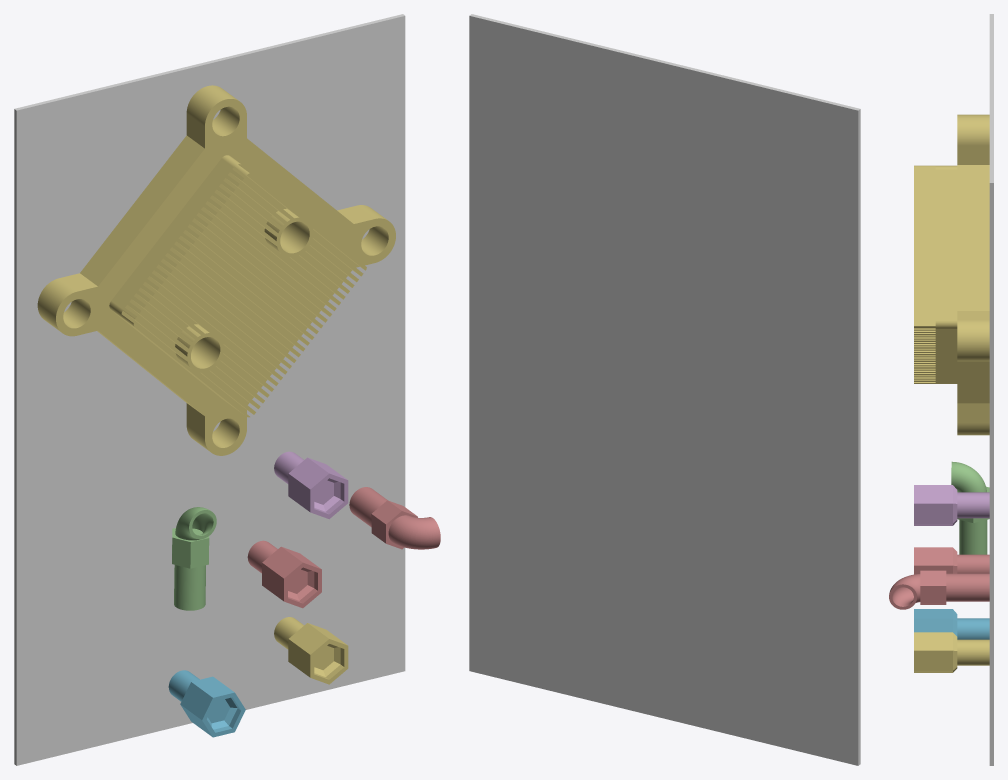
The model's file is pickup_layout.glb.
3 views of the same model, side by side, from view 1: azimuth 30°, elevation 25°; view 2: azimuth 150°, elevation 25°; view 3: azimuth 270°, elevation 25° (orthographic). The views are drawn at different scales.
Parts seen in each view (by area): view 1: world, 1.obj, 4.obj, 0.obj, 2.obj, 6.obj, 3.obj, 5.obj; view 2: world; view 3: 1.obj, world, 0.obj, 6.obj, 3.obj, 4.obj, 2.obj, 5.obj.
Part boxes in pixels (box(x1,y1,x2,y2)): world: box(14, 14, 405, 765); 1.obj: box(37, 85, 395, 455); 4.obj: box(172, 507, 216, 610); 0.obj: box(349, 487, 440, 549); 2.obj: box(168, 670, 245, 737); 6.obj: box(274, 617, 348, 684); 3.obj: box(274, 451, 348, 519); 5.obj: box(247, 540, 321, 608); world: box(469, 14, 860, 765); 1.obj: box(914, 114, 989, 435); world: box(989, 14, 993, 765); 0.obj: box(889, 570, 989, 609); 6.obj: box(914, 632, 989, 672); 3.obj: box(914, 485, 989, 525); 4.obj: box(951, 461, 989, 554); 2.obj: box(914, 609, 989, 639); 5.obj: box(914, 547, 989, 574).
Bounding box in the file's own units: 18.46 × 29.72 × 4.85.
